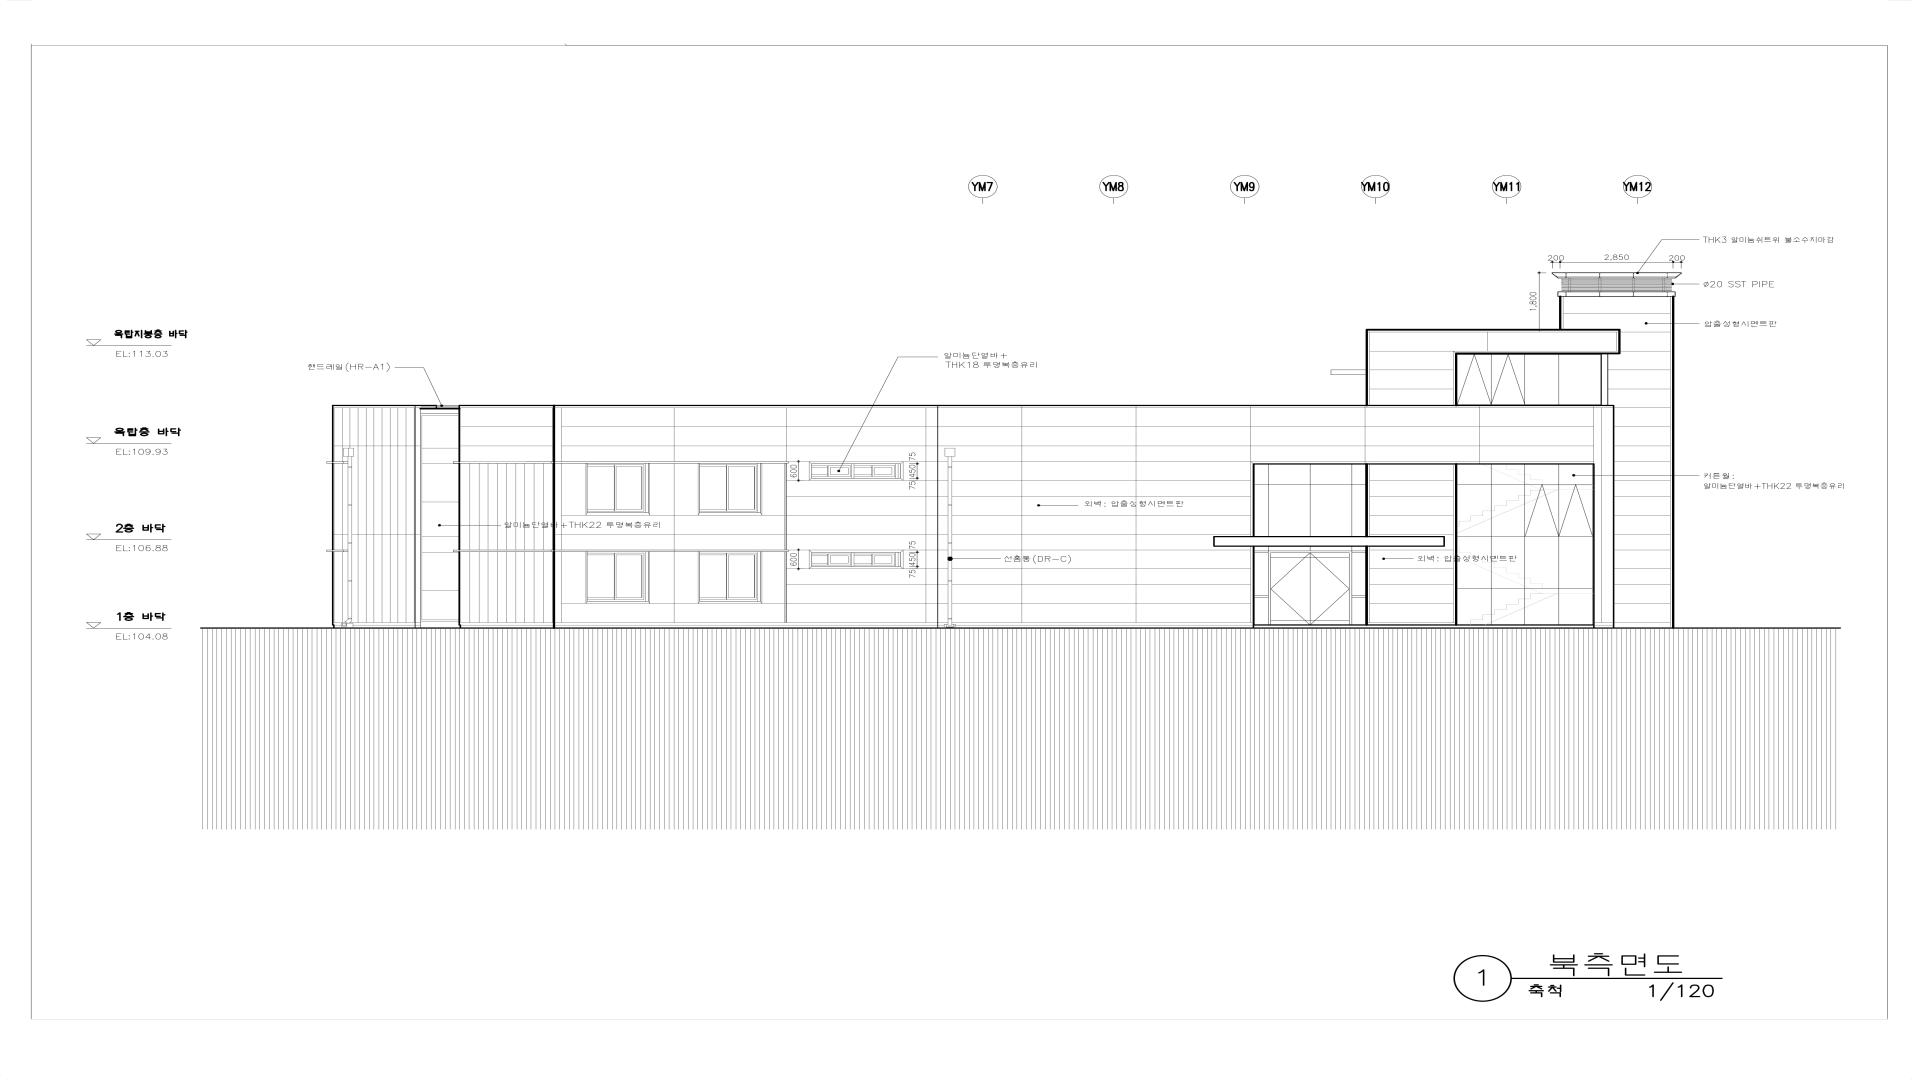door: (1253, 547, 1367, 625)
wall: (332, 273, 1681, 629)
window: (1456, 463, 1596, 625), (1253, 463, 1369, 537), (421, 413, 459, 622), (1455, 352, 1602, 406), (585, 551, 650, 604), (698, 551, 762, 604), (698, 463, 762, 516), (585, 463, 650, 516), (808, 550, 903, 570), (808, 462, 903, 480)
